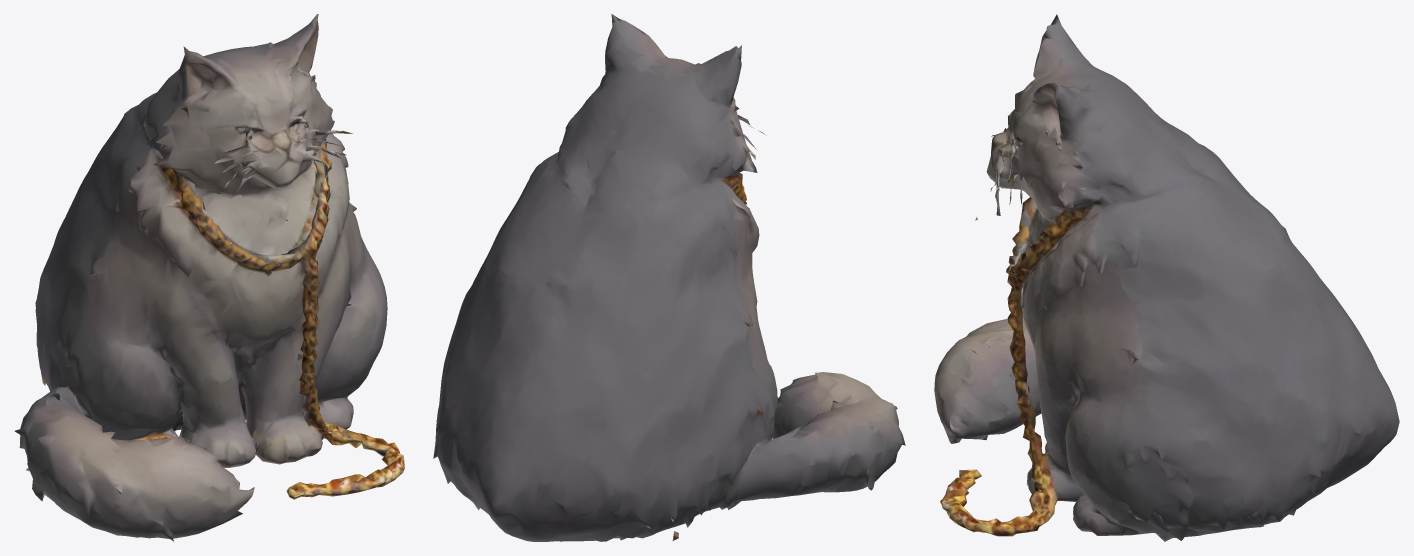
The model's file is cat_scholar_rigged.glb.
3 renders of one model, left to right at view 1: azimuth 30°, elevation 25°; view 2: azimuth 150°, elevation 25°; view 3: azimuth 270°, elevation 25°, orthographic. The views are drawn at different scales.
Parts seen in each view (by area): view 1: world; view 2: world; view 3: world.
Part boxes in pixels (box(x1,y1,x2,y2)): world: box(14, 14, 404, 541); world: box(433, 14, 905, 541); world: box(934, 14, 1399, 541).
Size of the model in its own units: 1.81 by 1.98 by 1.9.
1 material, 1 textured.
